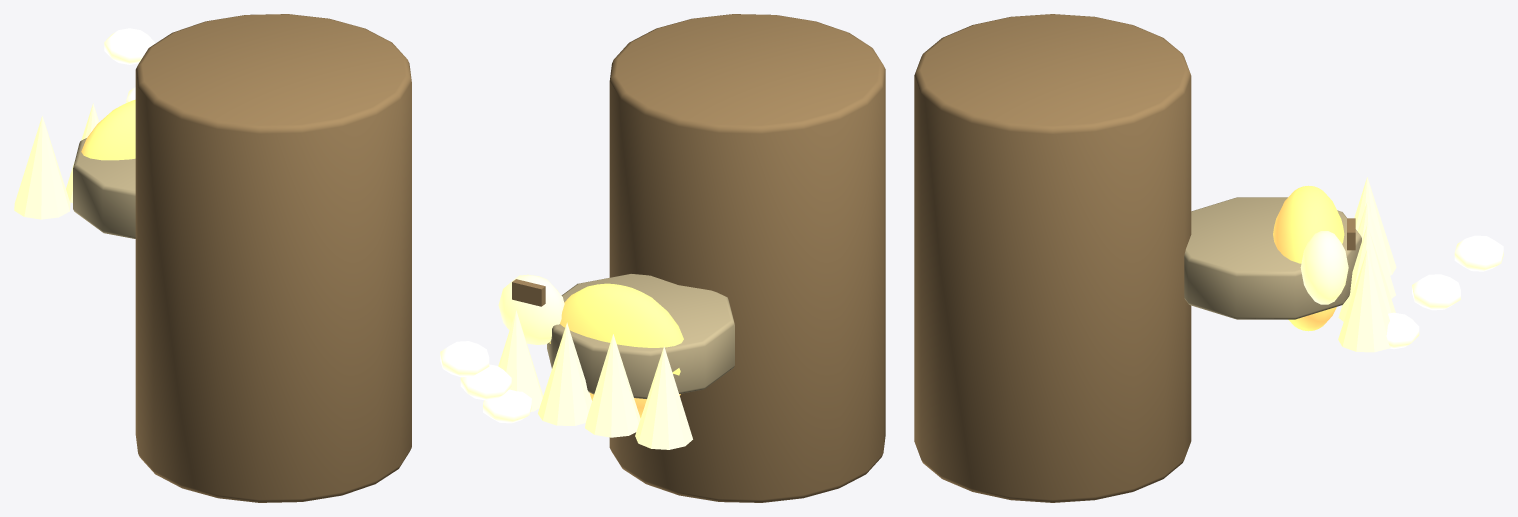
Rendered from ember-stump.glb.
3 views of the same model, side by side, from view 1: azimuth 30°, elevation 25°; view 2: azimuth 150°, elevation 25°; view 3: azimuth 270°, elevation 25° (orthographic).
Parts seen in each view (by area): view 1: stump, ashes, flame, ember, glow_2, flame.001; view 2: stump, ashes, ember, flame, flame.001, flame.002, eye, flame.003, glow_2, glow_1, glow_0, brow; view 3: stump, ashes, ember, flame.003, eye, glow_2, glow_1, flame.002, flame, glow_0, flame.001.
Boxes of the visible parts, x1,y1,x2,y2 form: stump: [135, 14, 411, 502]; ashes: [73, 138, 135, 238]; flame: [14, 116, 70, 219]; ember: [81, 99, 135, 160]; glow_2: [104, 28, 154, 64]; flame.001: [66, 103, 99, 202]; stump: [609, 14, 885, 502]; ashes: [547, 273, 734, 398]; ember: [549, 283, 683, 418]; flame: [635, 346, 692, 449]; flame.001: [585, 334, 640, 437]; flame.002: [538, 322, 591, 425]; eye: [498, 274, 564, 344]; flame.003: [498, 310, 543, 411]; glow_2: [440, 341, 489, 377]; glow_1: [460, 364, 511, 400]; glow_0: [483, 389, 531, 423]; brow: [512, 279, 545, 306]; stump: [914, 14, 1191, 502]; ashes: [1184, 197, 1361, 319]; ember: [1273, 185, 1344, 331]; flame.003: [1338, 249, 1390, 352]; eye: [1300, 231, 1348, 304]; glow_2: [1454, 235, 1503, 271]; glow_1: [1412, 274, 1460, 310]; flame.002: [1338, 224, 1395, 321]; flame: [1354, 177, 1396, 275]; glow_0: [1386, 312, 1419, 349]; flame.001: [1357, 202, 1395, 298].
Bounding box in the file's own units: 0.52 × 0.78 × 1.11.
